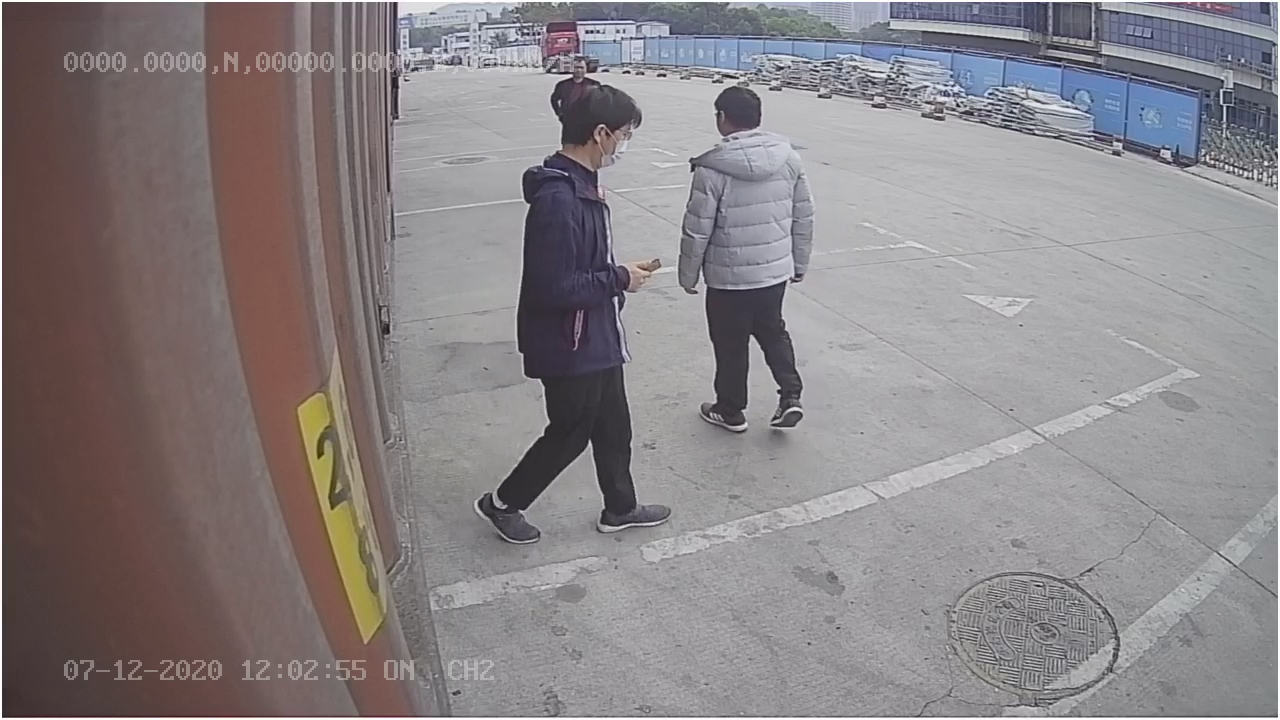person: (675, 84, 822, 438)
